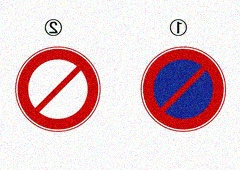Prohibition_sign: (137, 49, 240, 145), (15, 46, 108, 140)
